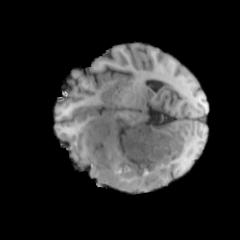glioma: (81, 117, 197, 191)
